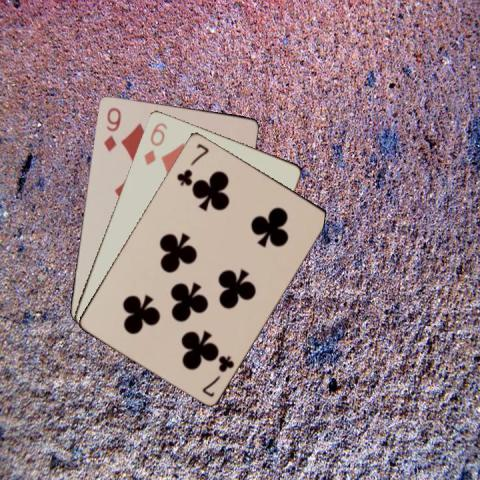6d: (140, 118, 168, 166)
7c: (173, 140, 210, 187), (199, 352, 236, 398)
9d: (101, 104, 122, 153)
